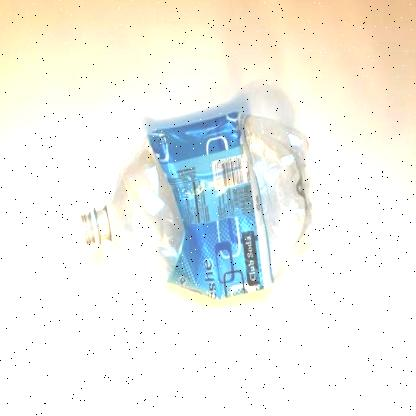Plastic Bottle: (80, 112, 321, 300)
